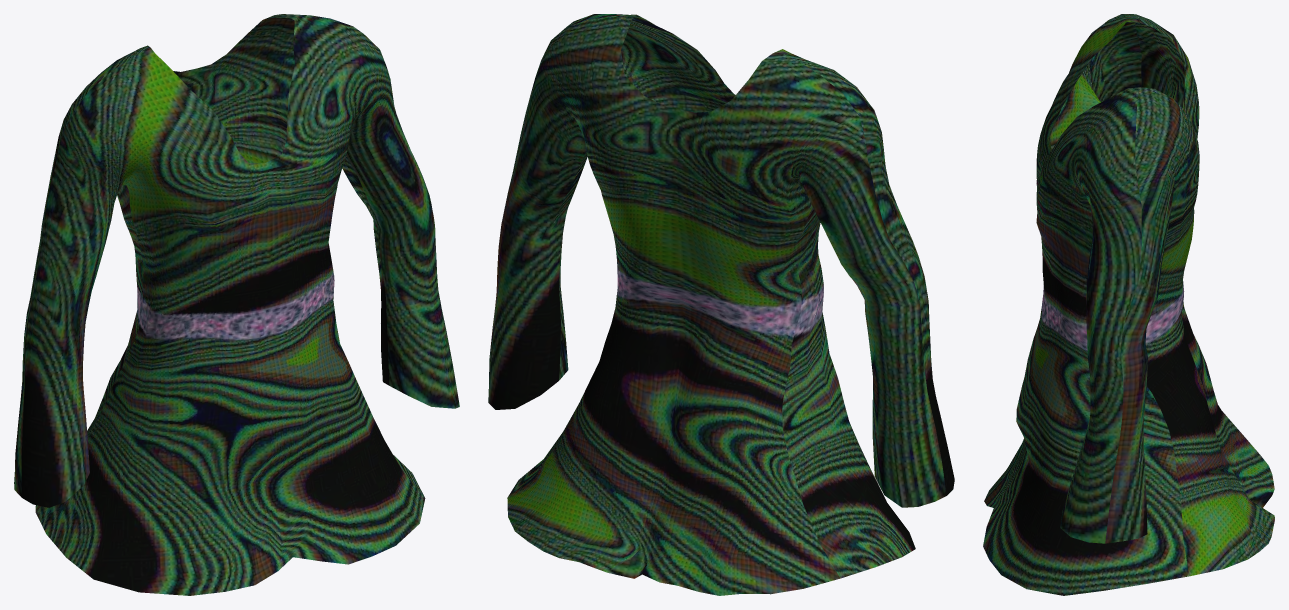
File: elvs-simple-60s-dress.glb
3 views of the same model, side by side, from view 1: azimuth 30°, elevation 25°; view 2: azimuth 150°, elevation 25°; view 3: azimuth 270°, elevation 25° (orthographic). The views are drawn at different scales.
Parts seen in each view (by area): view 1: Human.elvs_simple_60s_dress; view 2: Human.elvs_simple_60s_dress; view 3: Human.elvs_simple_60s_dress.
Boxes of the visible parts, <box> form: Human.elvs_simple_60s_dress: <box>14,14,459,595</box>; Human.elvs_simple_60s_dress: <box>488,14,954,595</box>; Human.elvs_simple_60s_dress: <box>983,14,1274,595</box>.
Size of the model in its own units: 0.7503 by 0.812 by 0.4562.
1 material, 1 textured.
